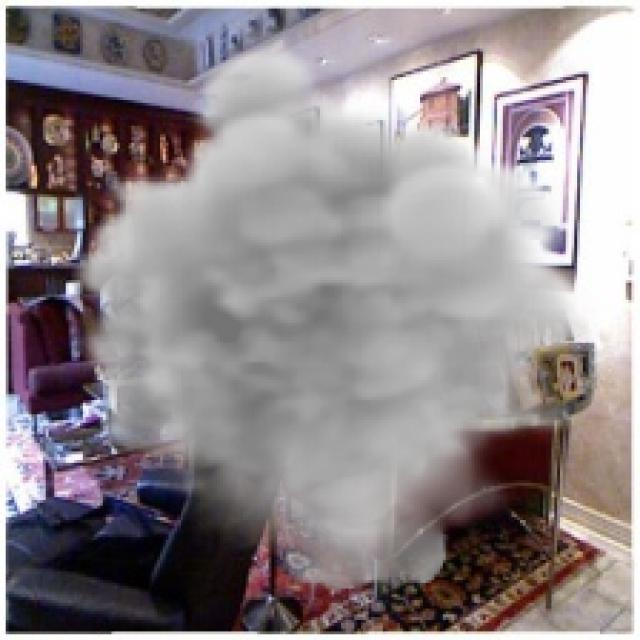smoke: (72, 40, 597, 594)
